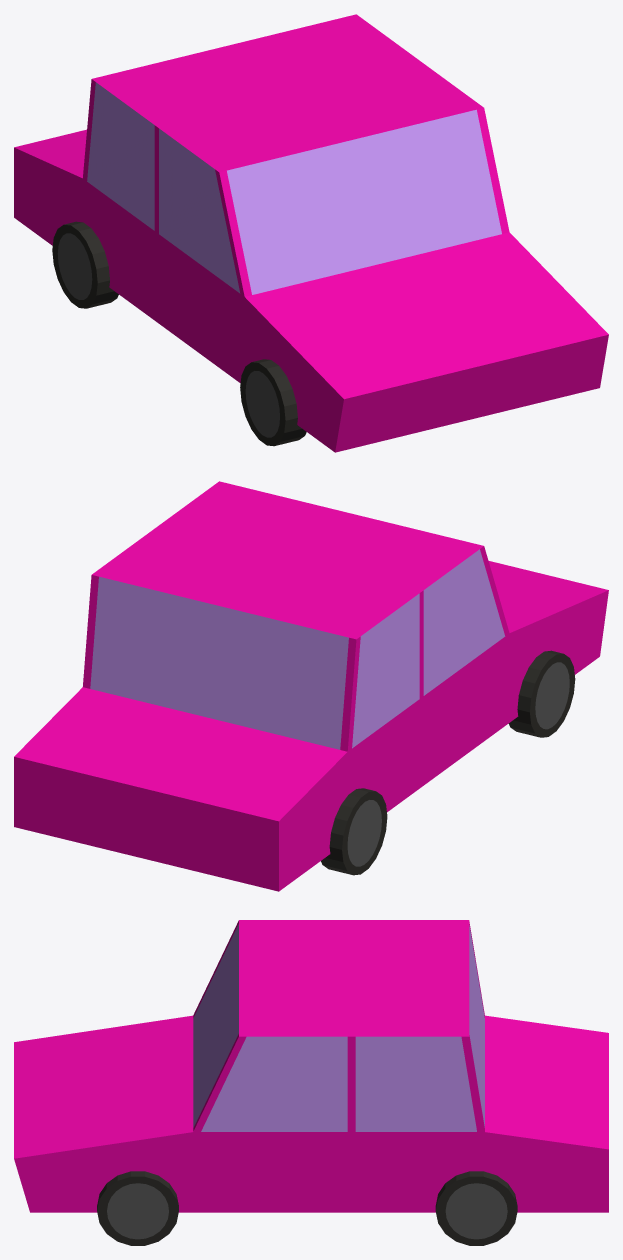
File: Car.obj
3 views of the same model, one above another, from view 1: azimuth 30°, elevation 25°; view 2: azimuth 150°, elevation 25°; view 3: azimuth 270°, elevation 25° (orthographic). The views are drawn at different scales.
Parts seen in each view (by area): view 1: Mesh5 Car1 Model, Mesh2 Tire2 Group1 Car1 Model, Mesh4 Tire4 Group2 Car1 Model; view 2: Mesh5 Car1 Model, Mesh4 Tire4 Group2 Car1 Model, Mesh2 Tire2 Group1 Car1 Model; view 3: Mesh5 Car1 Model, Mesh3 Tire3 Group2 Car1 Model, Mesh1 Tire1 Group1 Car1 Model.
Part boxes in pixels (<box>): Mesh5 Car1 Model: <box>14,14,608,452</box>; Mesh2 Tire2 Group1 Car1 Model: <box>240,359,306,446</box>; Mesh4 Tire4 Group2 Car1 Model: <box>52,221,118,308</box>; Mesh5 Car1 Model: <box>14,481,608,891</box>; Mesh4 Tire4 Group2 Car1 Model: <box>321,788,387,875</box>; Mesh2 Tire2 Group1 Car1 Model: <box>508,650,575,737</box>; Mesh5 Car1 Model: <box>14,920,608,1212</box>; Mesh3 Tire3 Group2 Car1 Model: <box>435,1171,517,1245</box>; Mesh1 Tire1 Group1 Car1 Model: <box>97,1171,178,1245</box>.
Size of the model in its own units: 0.9852 by 0.7348 by 1.94.
